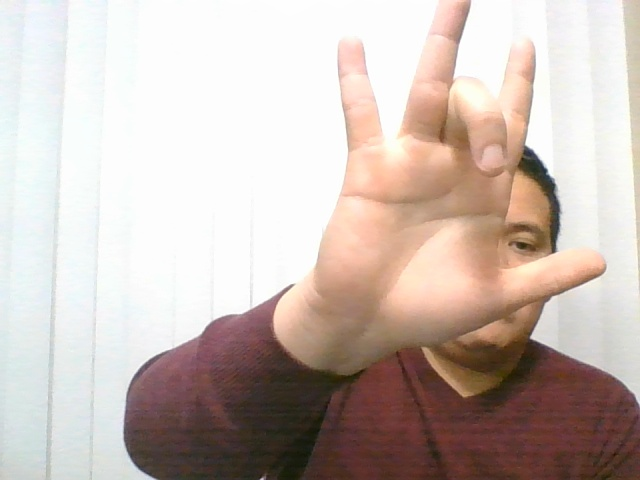Eight: (291, 1, 625, 367)
